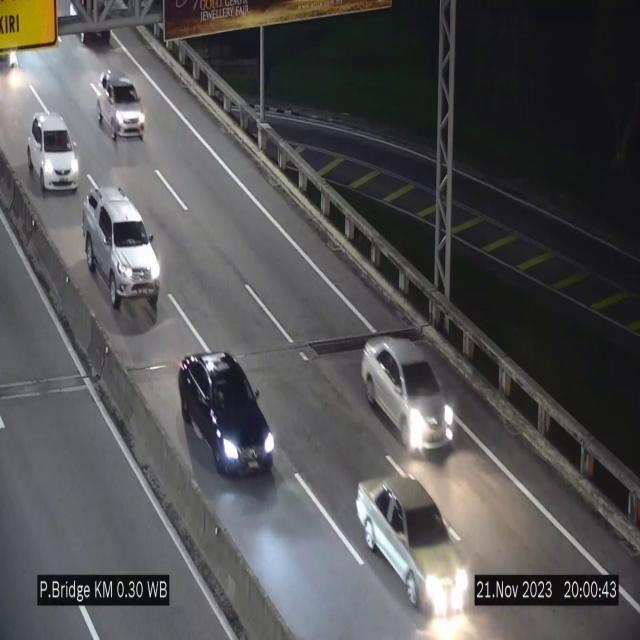Car: (357, 471, 472, 617), (179, 352, 275, 474), (361, 334, 455, 452), (83, 187, 160, 321), (28, 113, 79, 193), (98, 70, 146, 142)
